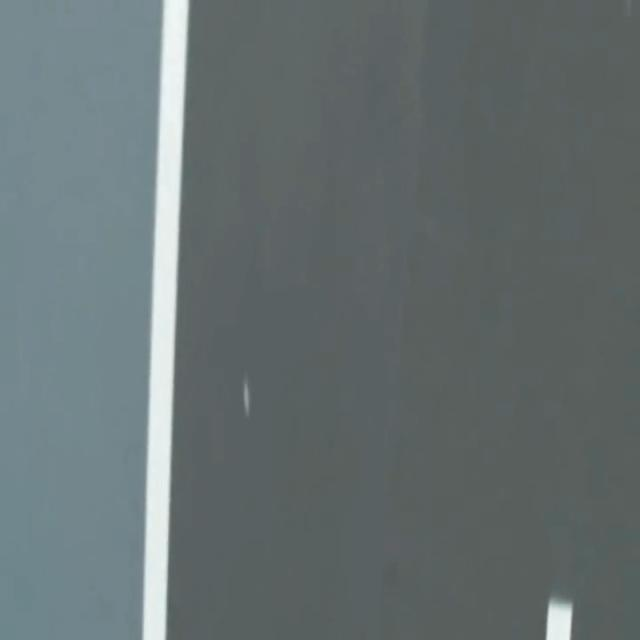center: (545, 598, 572, 639)
left: (142, 0, 188, 639)
